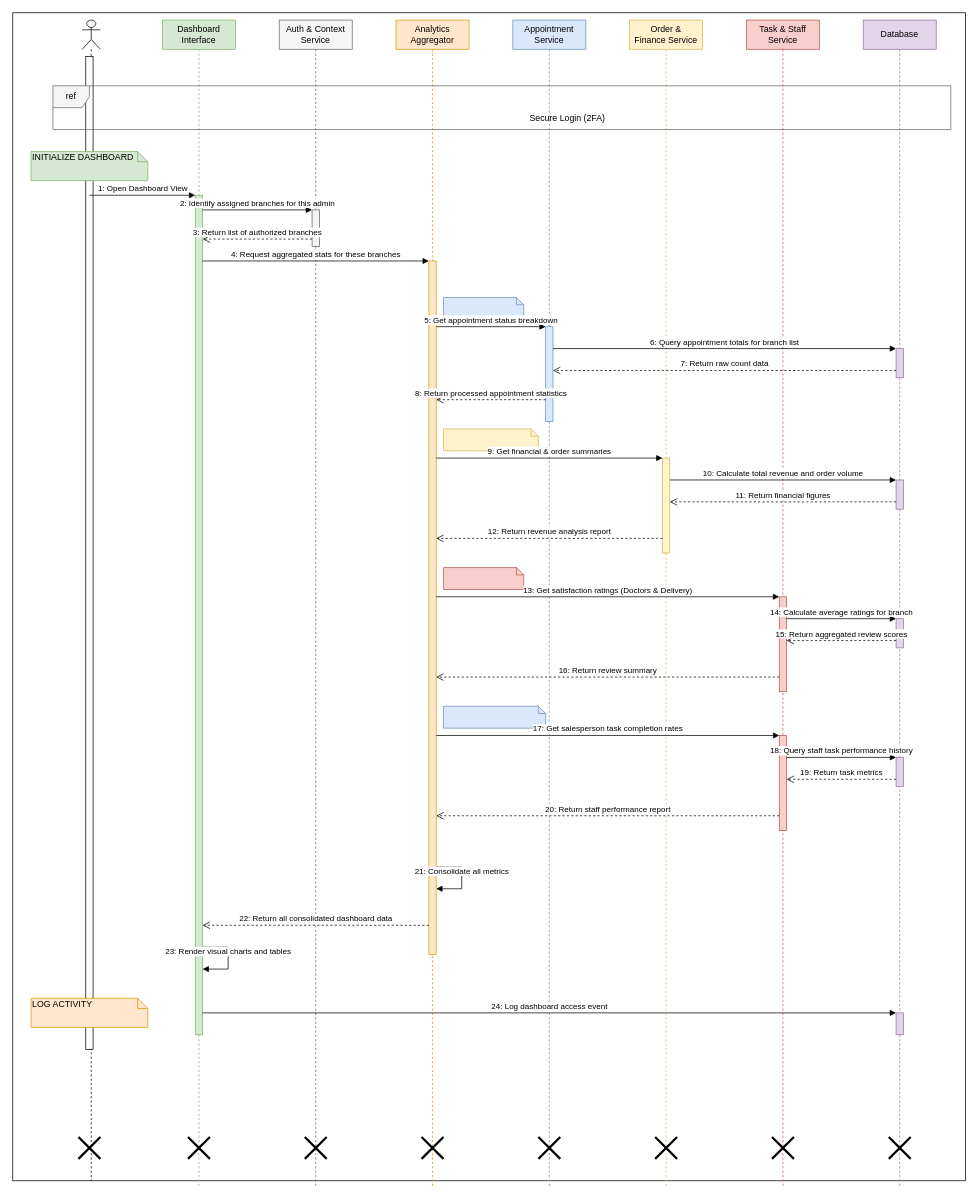
The diagram is 978 pixels wide and 1201 high, and some of its shapes have lost their labels. Here are the shapes that lost their labels. From the top down, the centre of each, then its label:
At (x=483, y=308): "APPOINTMENTS".
At (x=490, y=439): "REVENUE & ORDERS".
At (x=483, y=578): "REVIEWS".
At (x=494, y=717): "STAFF PERFORMANCE".
